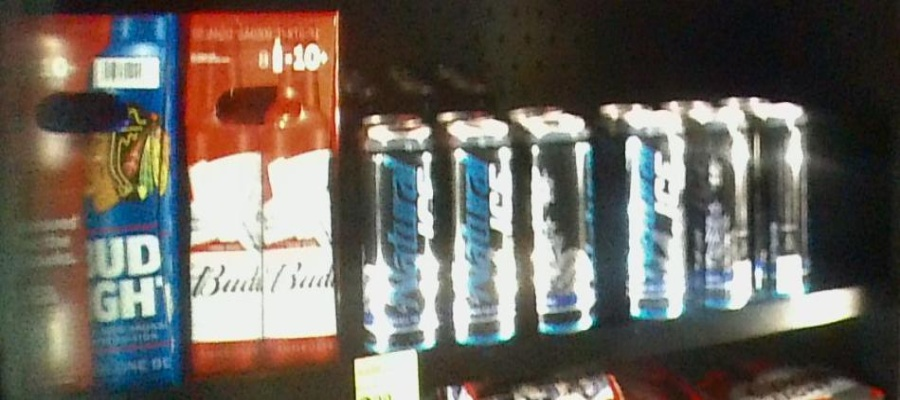bottle: (1, 15, 184, 392), (359, 121, 608, 353), (187, 7, 339, 376), (628, 116, 819, 304)
